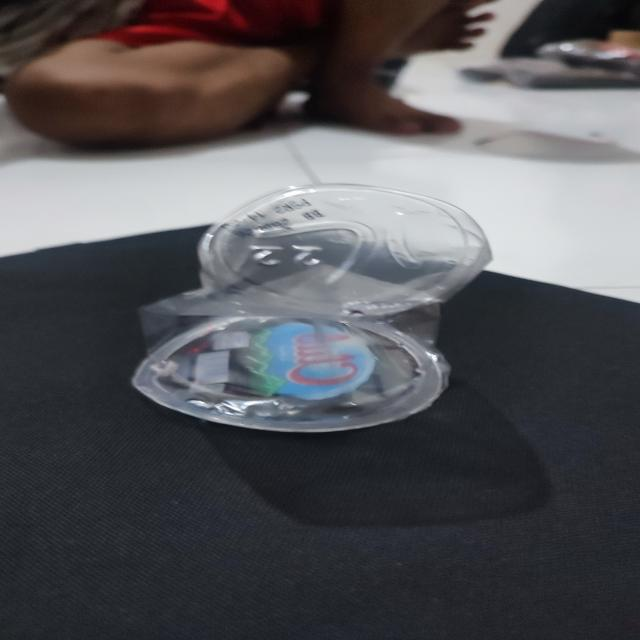air-gelas-rusak: (140, 185, 501, 435)
